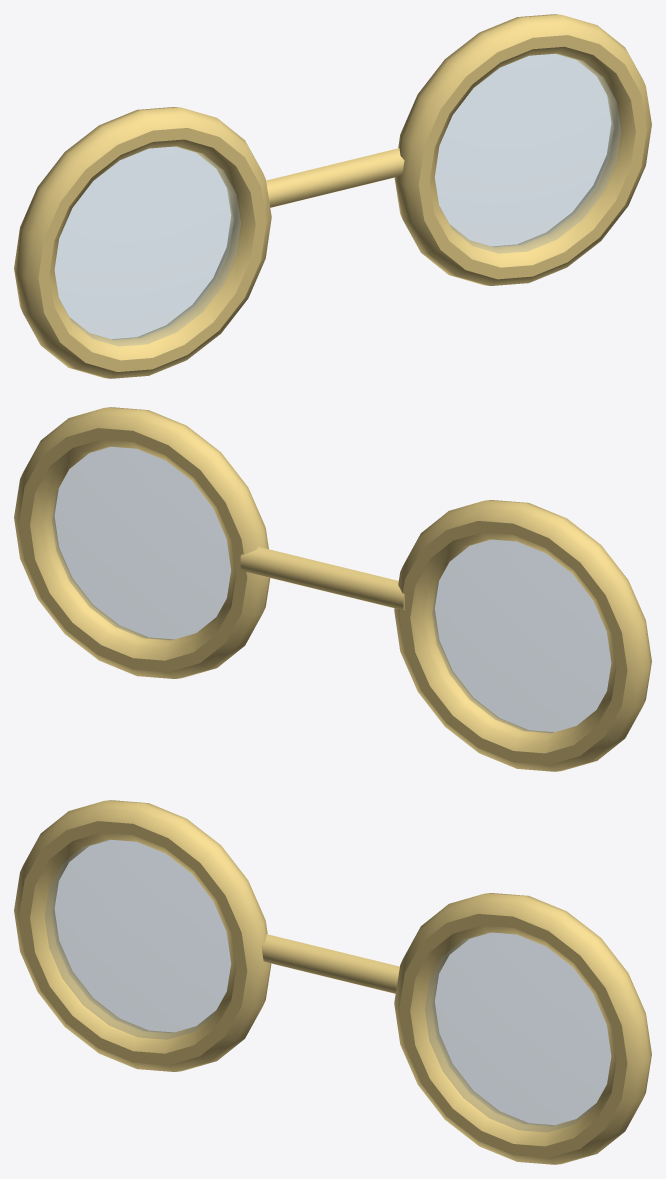
The model's file is Acc_Glasses.fbx.
The picture shows the model from 3 angles, top to bottom: view 1: azimuth 30°, elevation 25°; view 2: azimuth 150°, elevation 25°; view 3: azimuth 330°, elevation 25°; orthographic projection.
Parts seen in each view (by area): view 1: Glasses_Rim.001, Glasses_Rim, Glasses_Lens, Glasses_Lens.001, Glasses_Bridge; view 2: Glasses_Rim.001, Glasses_Rim, Glasses_Lens.001, Glasses_Lens, Glasses_Bridge; view 3: Glasses_Rim, Glasses_Rim.001, Glasses_Lens.001, Glasses_Lens, Glasses_Bridge.
Boxes of the visible parts, left/top/right/bottom form: Glasses_Rim.001: left=14, top=107, right=271, bottom=378; Glasses_Rim: left=394, top=14, right=651, bottom=285; Glasses_Lens: left=434, top=53, right=620, bottom=253; Glasses_Lens.001: left=54, top=146, right=240, bottom=346; Glasses_Bridge: left=266, top=148, right=404, bottom=207; Glasses_Rim.001: left=394, top=500, right=651, bottom=771; Glasses_Rim: left=14, top=407, right=270, bottom=678; Glasses_Lens.001: left=432, top=539, right=611, bottom=732; Glasses_Lens: left=52, top=446, right=231, bottom=639; Glasses_Bridge: left=240, top=547, right=404, bottom=610; Glasses_Rim: left=394, top=893, right=651, bottom=1164; Glasses_Rim.001: left=14, top=800, right=271, bottom=1071; Glasses_Lens.001: left=45, top=839, right=231, bottom=1039; Glasses_Lens: left=425, top=932, right=611, bottom=1132; Glasses_Bridge: left=261, top=934, right=399, bottom=993.
Bounding box in the file's own units: 46.6 × 18.6 × 2.6.
